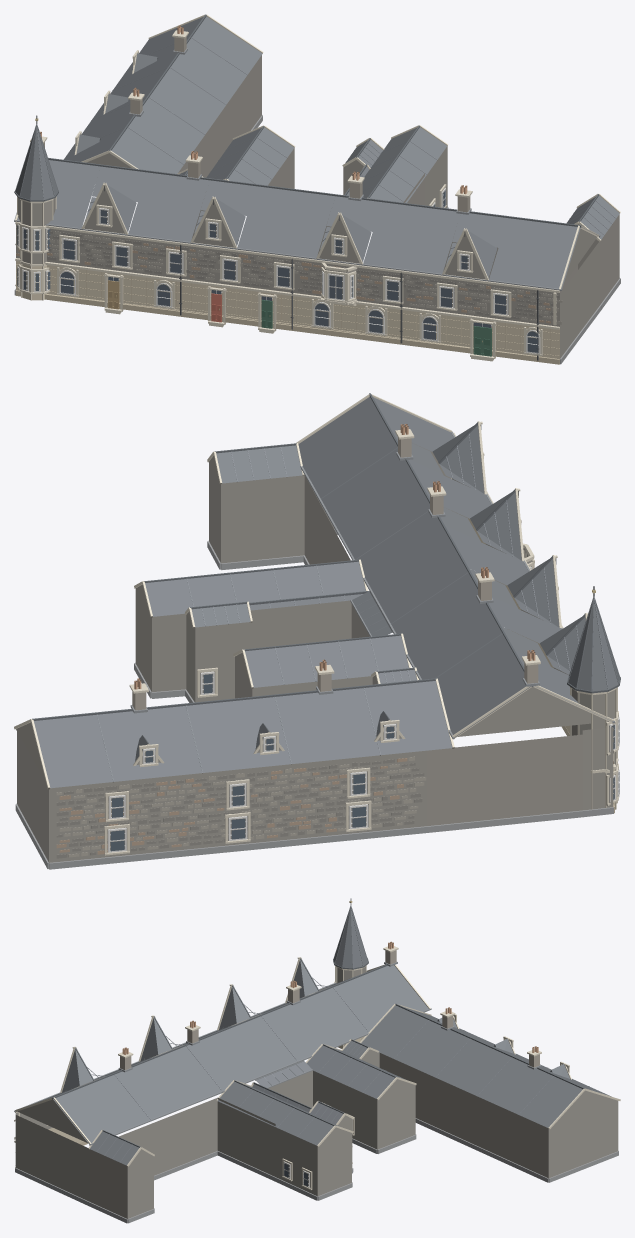
3 views of the same model, one above another, from view 1: azimuth 30°, elevation 25°; view 2: azimuth 150°, elevation 25°; view 3: azimuth 270°, elevation 25° (orthographic). The views are drawn at different scales.
Parts seen in each view (by area): view 1: slate, rubble, ss_lt, ss, frame, ss_dk, rubble_dk, rubble_lt, slate_dk, ss_joint, slate_lt, lead (+5 smaller); view 2: slate, rubble, ss_lt, rubble_dk, plinth, rubble_lt, slate_dk, slate_lt, rubble_rust, frame, chim_stone, lead; view 3: slate, rubble, plinth, ss_lt, slate_dk, slate_lt, lead, chim_stone.
Boxes of the visible parts, x1,y1,x2,y2 form: slate: [14, 16, 619, 288]; rubble: [16, 55, 619, 358]; ss_lt: [15, 14, 620, 361]; ss: [16, 261, 559, 358]; frame: [17, 188, 540, 354]; ss_dk: [15, 290, 559, 364]; rubble_dk: [16, 227, 559, 319]; rubble_lt: [16, 231, 562, 324]; slate_dk: [14, 14, 598, 228]; ss_joint: [16, 264, 559, 356]; slate_lt: [15, 37, 616, 272]; lead: [14, 48, 600, 290]; slate: [34, 397, 619, 788]; rubble: [16, 443, 616, 862]; ss_lt: [14, 394, 619, 855]; rubble_dk: [56, 728, 613, 858]; plinth: [15, 529, 613, 869]; rubble_lt: [56, 750, 613, 857]; slate_dk: [32, 393, 620, 720]; slate_lt: [96, 434, 620, 782]; rubble_rust: [56, 758, 613, 854]; frame: [108, 566, 619, 852]; chim_stone: [132, 438, 538, 710]; lead: [130, 432, 614, 739]; slate: [37, 909, 611, 1165]; rubble: [15, 966, 618, 1218]; plinth: [15, 1118, 618, 1223]; ss_lt: [14, 946, 620, 1190]; slate_dk: [52, 957, 584, 1147]; slate_lt: [66, 905, 589, 1162]; lead: [14, 962, 541, 1145]; chim_stone: [120, 950, 539, 1070].
Bounding box in the file's own units: 43.22 × 15.95 × 59.09.
